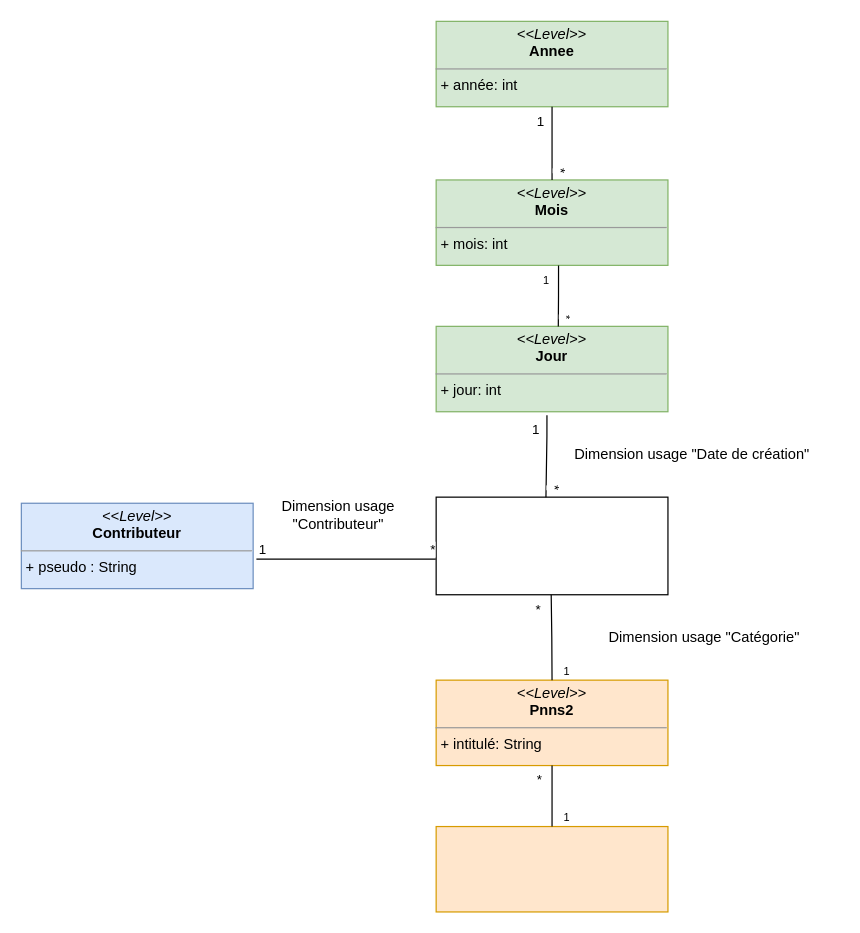
Image size: 860x933. Some labels were removed from this diagram. The shapes that lost their labels are listed below. From the top down, each one's centre as x and y in pixels, then its label:
At [551,545]: "<<Cube>> Produits + nombre de produits: int".
At [551,868]: "<<Level>> Pnns1 + intitulé: String".
